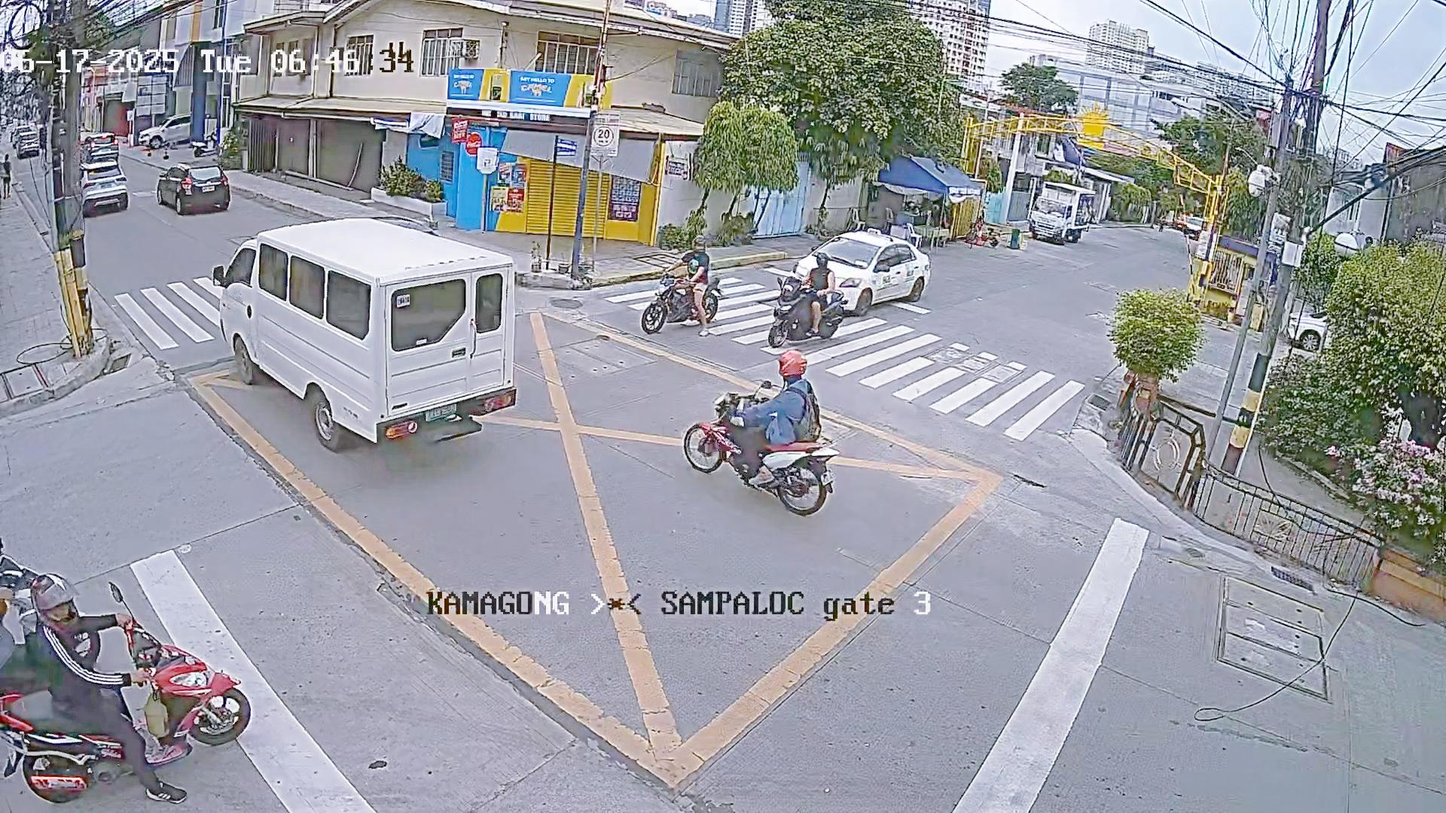Car: (211, 189, 554, 481), (789, 208, 956, 307), (152, 146, 251, 227), (1021, 170, 1106, 256), (69, 155, 145, 223)
Motor: (0, 515, 312, 783), (646, 364, 916, 524), (747, 245, 878, 362), (627, 233, 737, 342)
